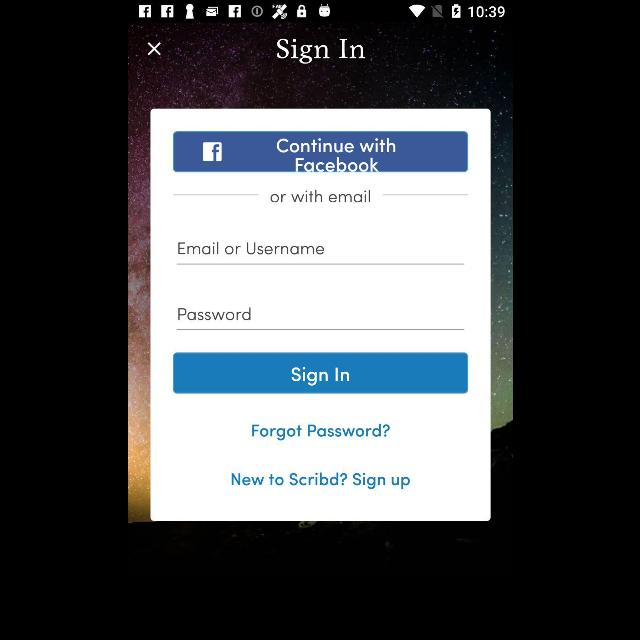icon: (148, 42, 160, 56)
input: (176, 308, 464, 330), (176, 242, 464, 264)
panel: (150, 109, 490, 521)
text: (230, 472, 410, 490), (251, 424, 389, 441), (277, 40, 365, 64), (178, 242, 324, 254), (270, 190, 370, 202), (178, 308, 250, 320)
textbutton: (172, 352, 468, 393), (172, 132, 468, 172)
uppertaskbar: (128, 1, 512, 23)
